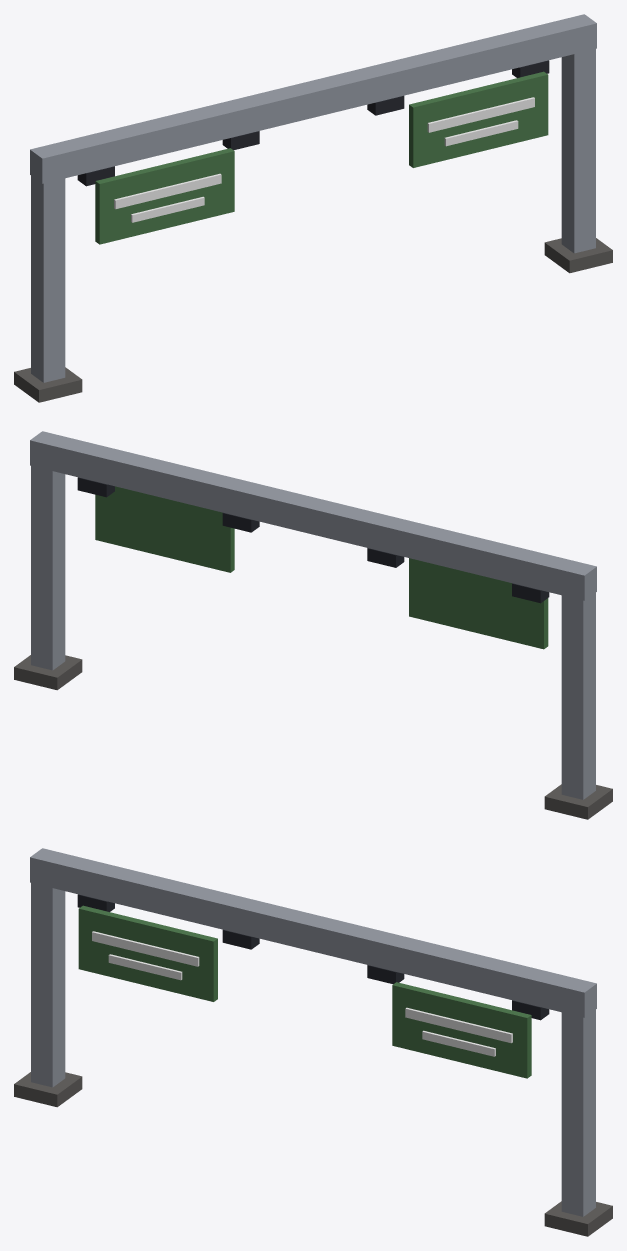
The model's file is portico_autopista.obj.
3 views of the same model, one above another, from view 1: azimuth 30°, elevation 25°; view 2: azimuth 150°, elevation 25°; view 3: azimuth 330°, elevation 25° (orthographic).
Visible parts, largest first — view 1: portico_autopista; view 2: portico_autopista; view 3: portico_autopista.
Boxes of the visible parts, x1,y1,x2,y2 form: portico_autopista: (14, 14, 612, 402); portico_autopista: (14, 431, 612, 819); portico_autopista: (14, 848, 612, 1236).
Size of the model in its own units: 23.8 by 9.4 by 1.8.
